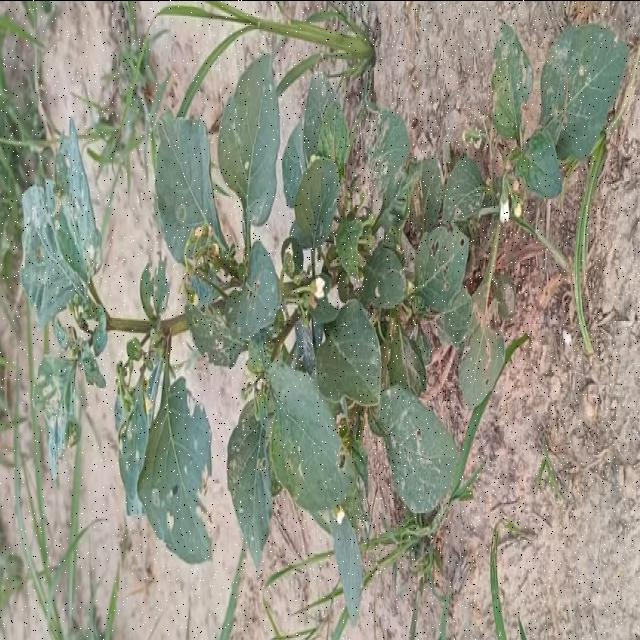weed: (20, 22, 628, 622)
